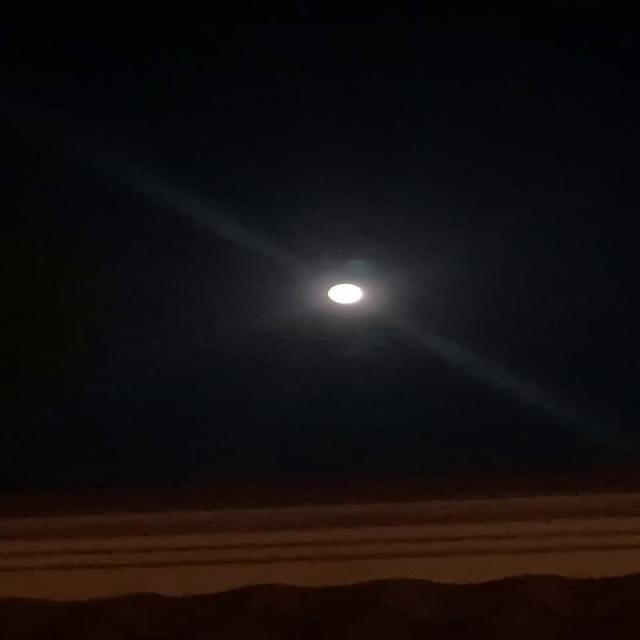moon: (316, 288, 360, 314)
